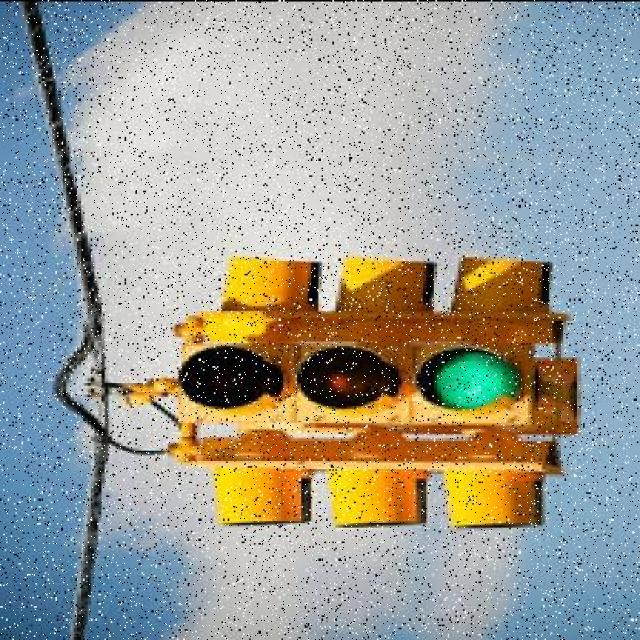green-light: (143, 308, 633, 500)
